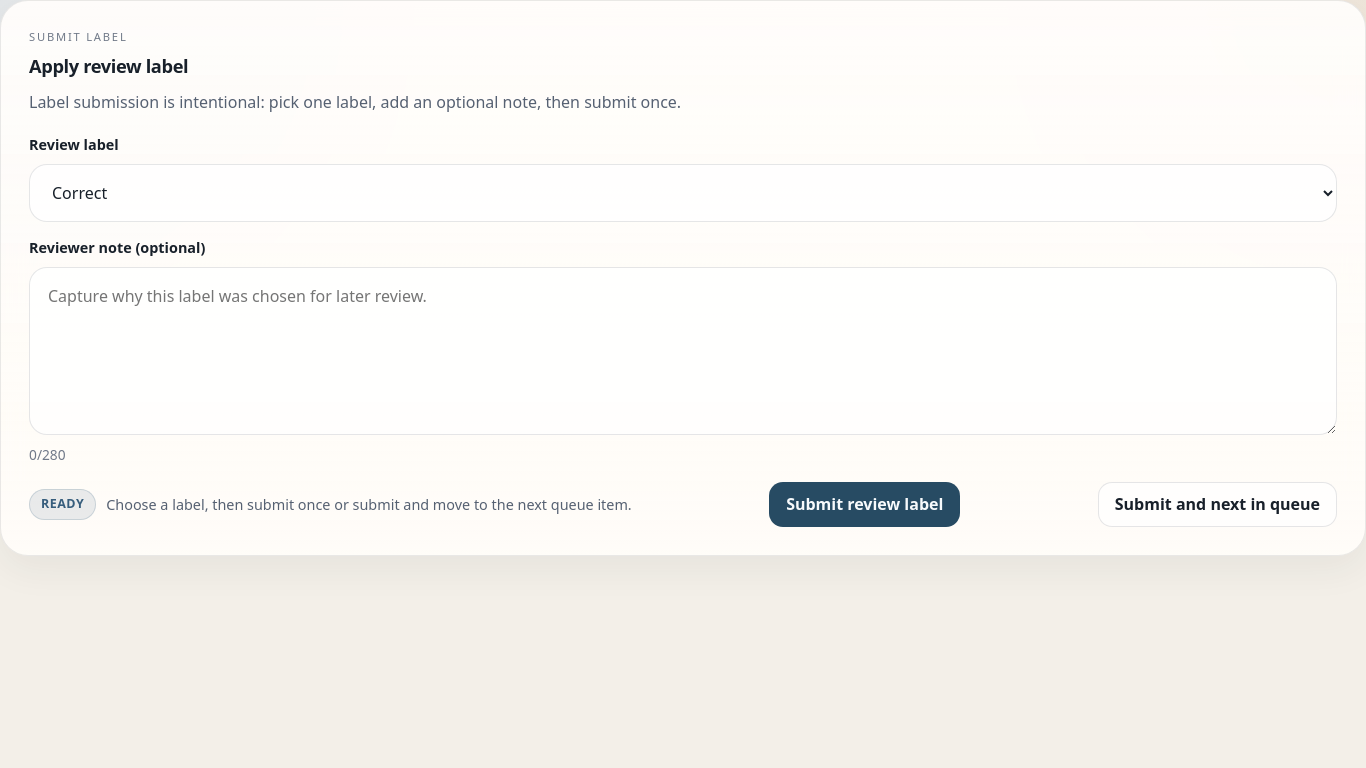
Scenario: MemoryLabelForm › supports queue-mode submit and next navigation using deterministic next memory id
Click the button "Submit and next in queue": (1217, 505) [1098, 482, 1337, 527]
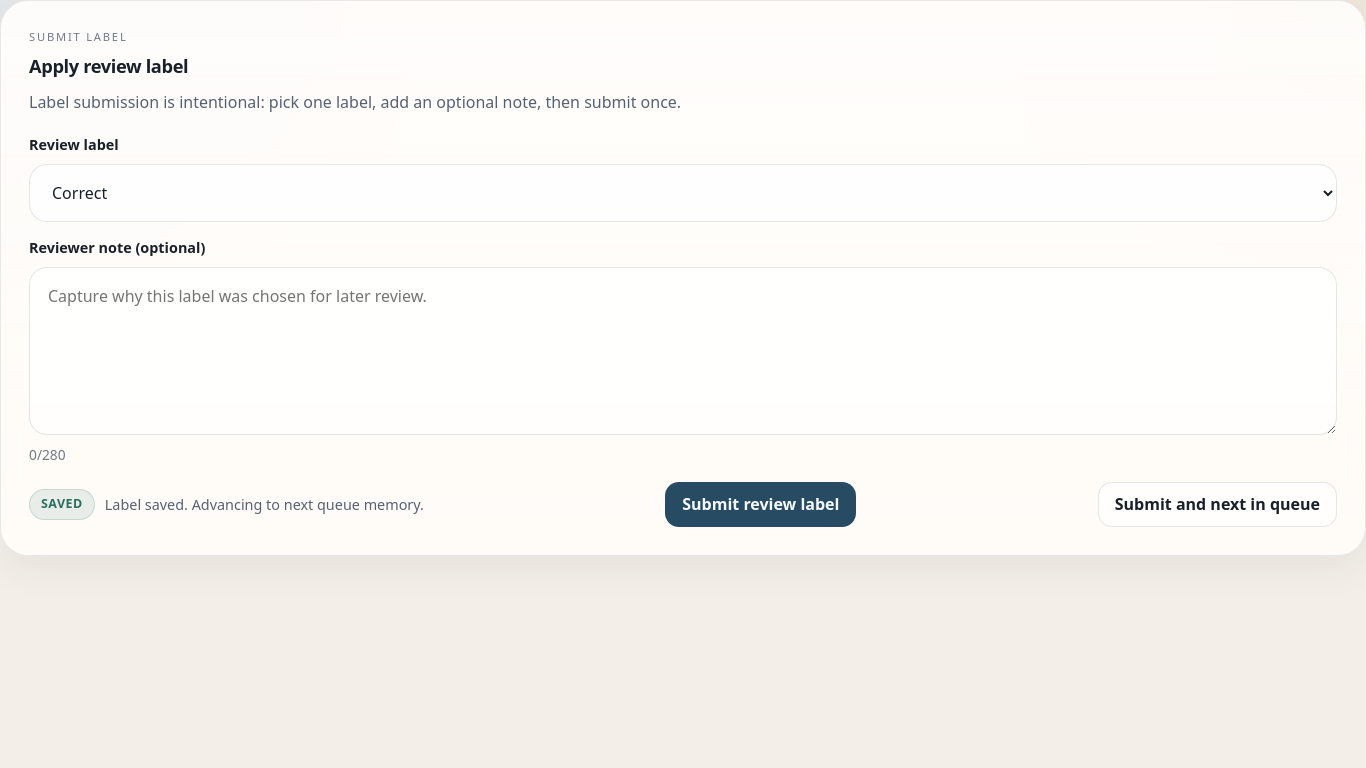
Check: the text "Label saved. Advancing to next queue memory." is shown, box [105, 495, 424, 514]
